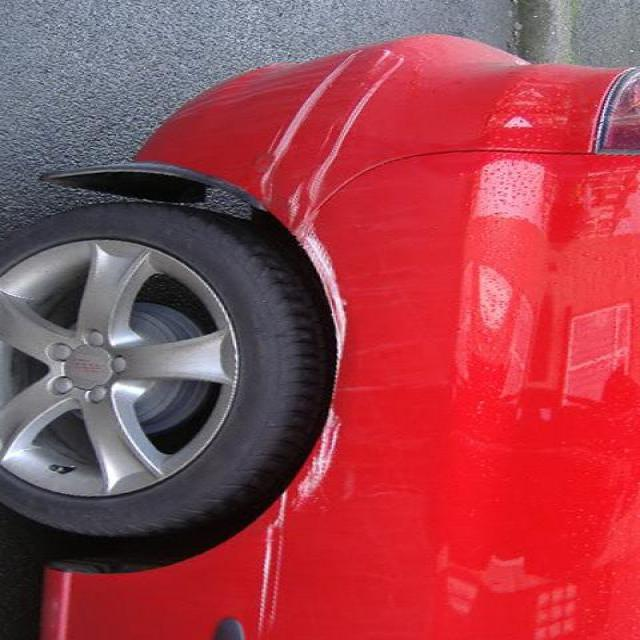scratch: (251, 45, 413, 365), (253, 479, 291, 640), (293, 402, 342, 515)
